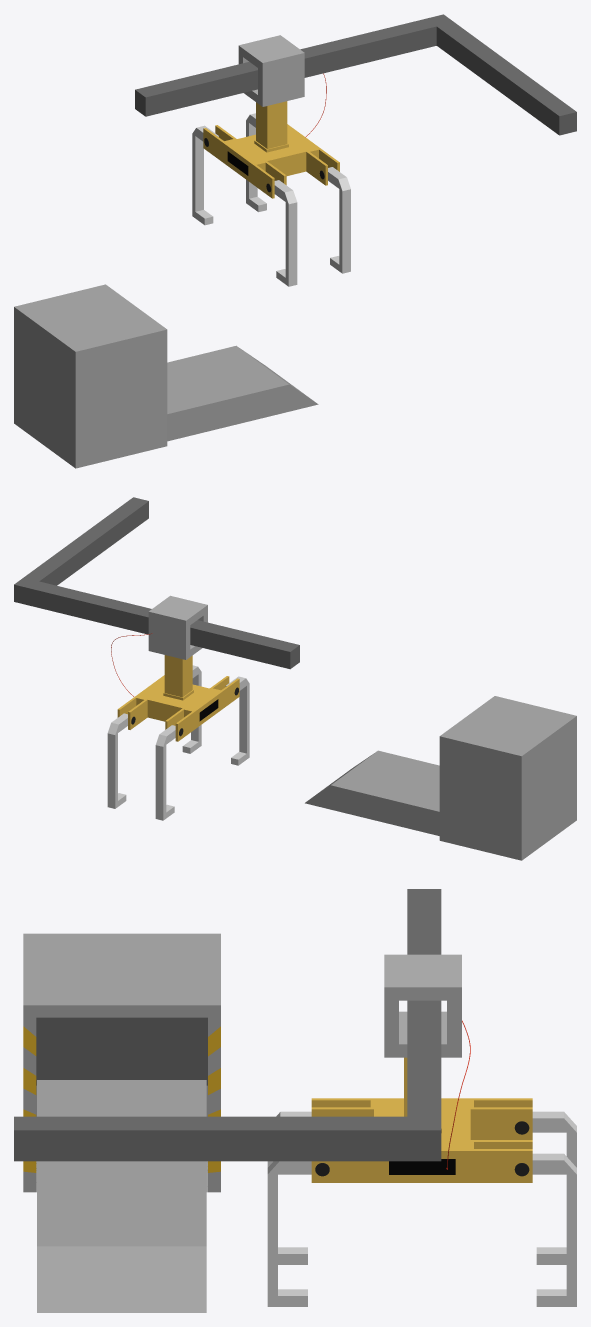
File: factory.fbx
3 views of the same model, one above another, from view 1: azimuth 30°, elevation 25°; view 2: azimuth 150°, elevation 25°; view 3: azimuth 270°, elevation 25° (orthographic). The views are drawn at different scales.
Parts seen in each view (by area): view 1: gate, glider, dizalica, track, CUBE; view 2: gate, glider, dizalica, track, CUBE; view 3: track, gate, glider, dizalica, CUBE.
Part boxes in pixels (x1,y1,x2,y2): gate: [14, 284, 167, 468]; glider: [135, 14, 576, 135]; dizalica: [192, 73, 350, 286]; track: [167, 345, 318, 441]; CUBE: [238, 35, 304, 106]; gate: [439, 696, 576, 860]; glider: [14, 497, 299, 669]; dizalica: [107, 633, 249, 820]; track: [305, 750, 439, 835]; CUBE: [148, 595, 207, 659]; track: [37, 1080, 206, 1312]; gate: [23, 933, 220, 1192]; glider: [14, 889, 441, 1161]; dizalica: [267, 1020, 576, 1306]; CUBE: [384, 954, 461, 1057].
Size of the model in its own units: 1910 by 915 by 1166.
